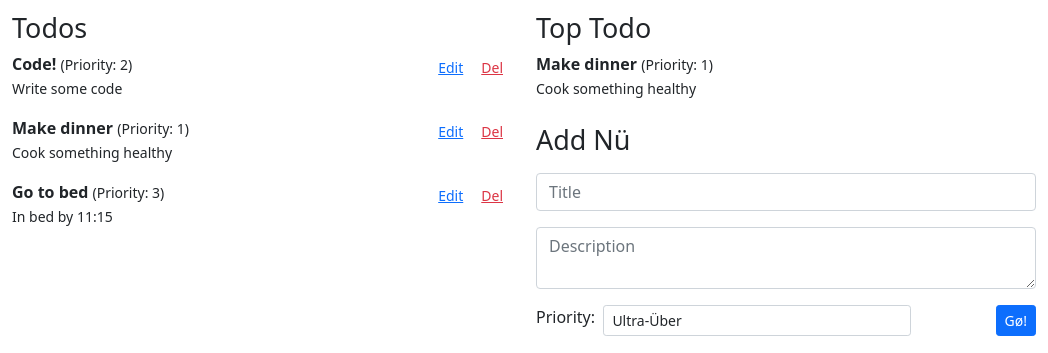
Deleting all items › should delete all items
Check: the text "Code!" is shown, box [12,53,56,75]
Check: the text "Make dinner" is shown 2 times, box [12,117,113,139]; [536,53,637,75]
Click the button with class "EditableTodo-delBtn" in the row of "Write some code" at (492, 68), box [472,52,512,83]
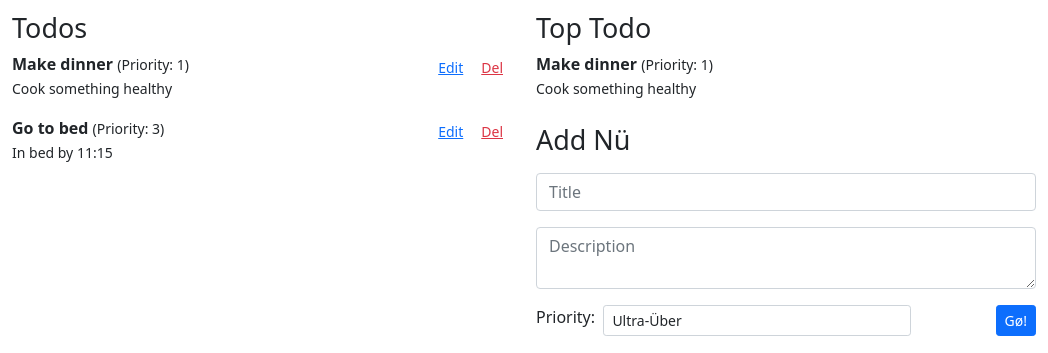
Click the 1st button with class "EditableTodo-delBtn" at (492, 68), box [472,52,512,83]
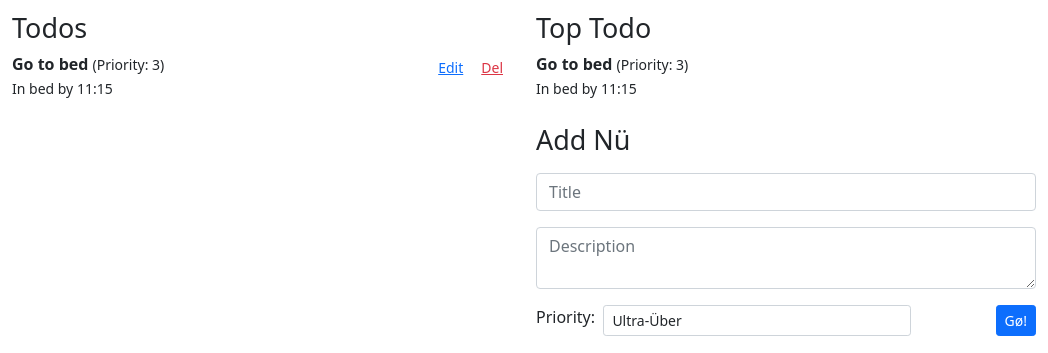
Click the button with class "EditableTodo-delBtn" at (492, 68), box [472,52,512,83]
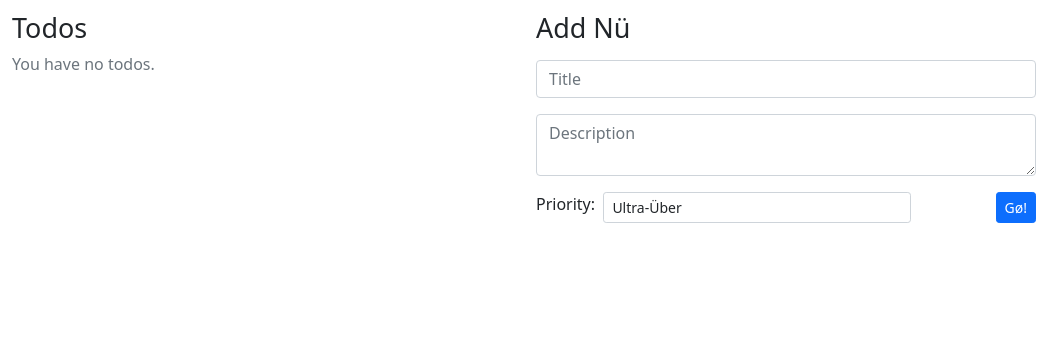
Check: the text "You have no todos." is shown, box [12,53,155,75]
